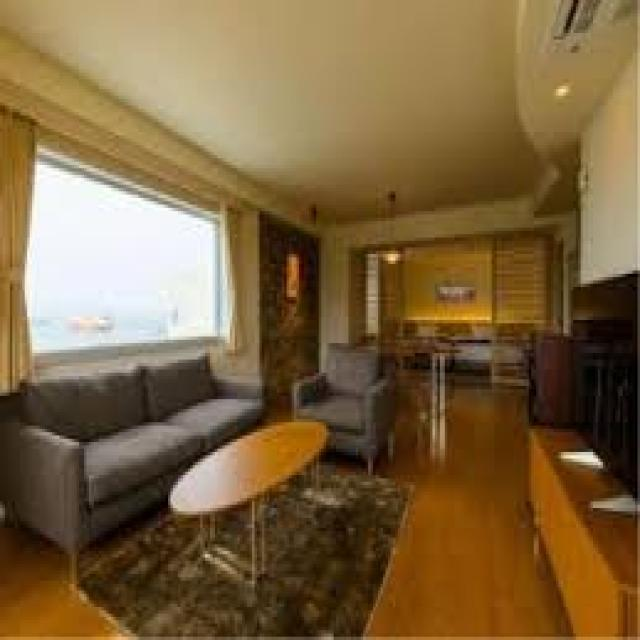Chair: (296, 338, 392, 472)
Sofa: (5, 365, 262, 535)
Table: (167, 419, 332, 577)
tv: (569, 333, 639, 500)
window: (1, 138, 239, 356)
